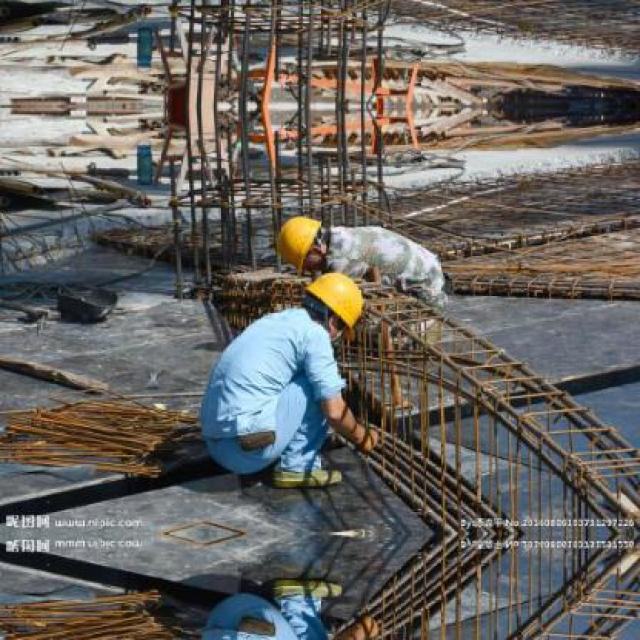helmet: (284, 264, 370, 348), (268, 210, 326, 273)
